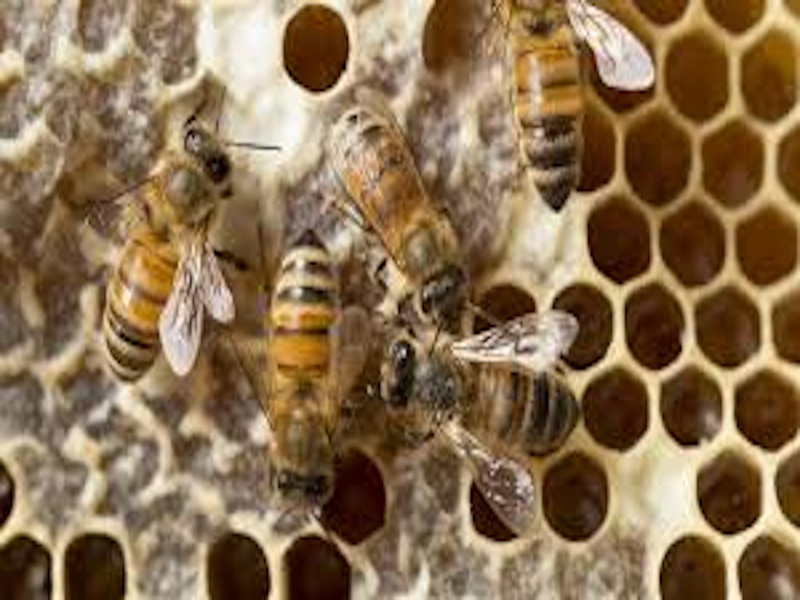abeja: (424, 1, 688, 258), (381, 321, 606, 540), (92, 89, 256, 379), (324, 78, 488, 335), (240, 216, 361, 517)
